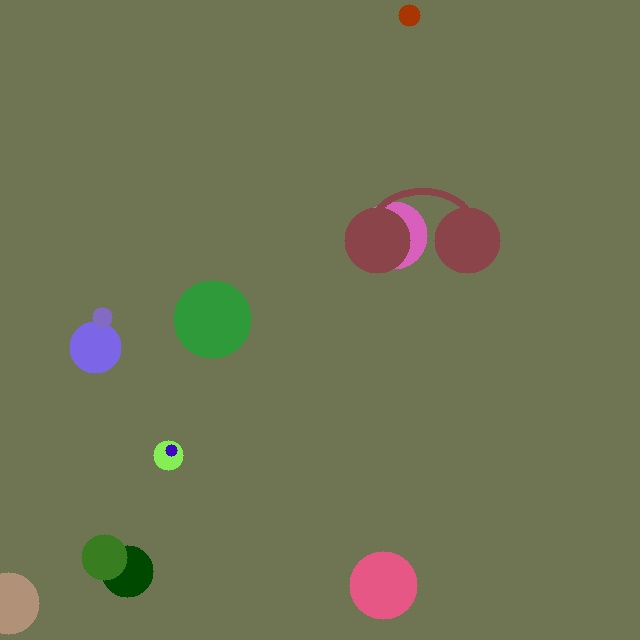over_ear: (340, 177, 504, 277)
